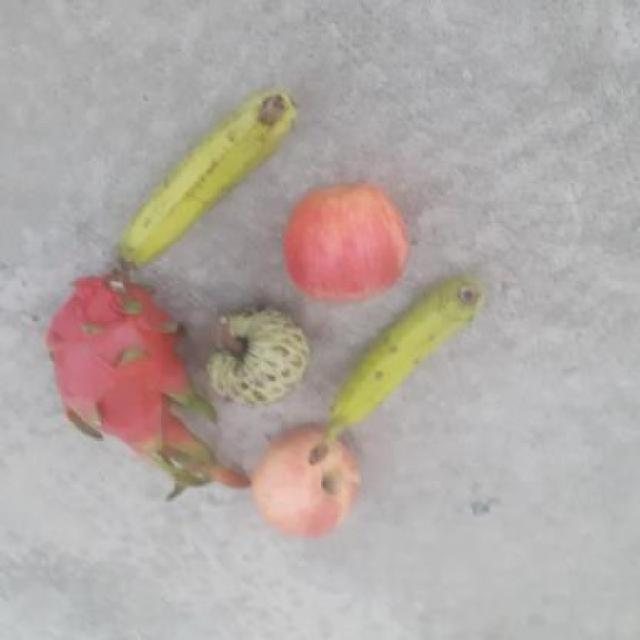apple: (273, 182, 413, 306), (248, 423, 364, 542)
banana: (306, 274, 489, 468), (117, 91, 300, 271)
dragon fruit: (46, 269, 194, 477)
sugar apple: (205, 301, 310, 408)
